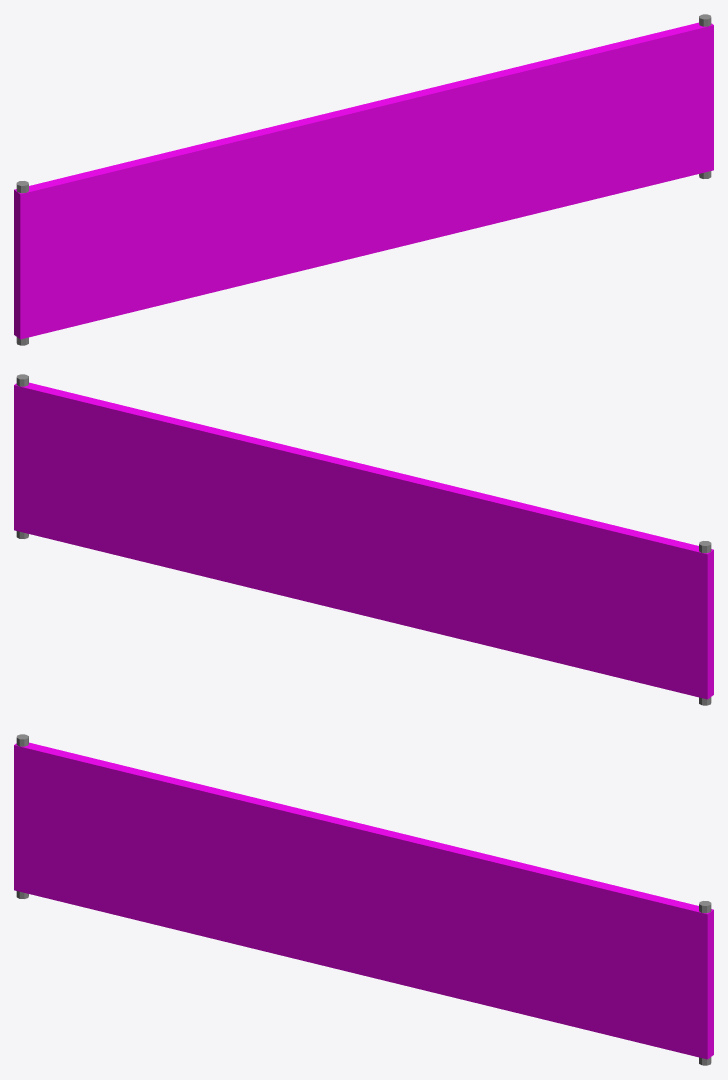
File: stake_ribbon_orange_5m.dae
3 views of the same model, one above another, from view 1: azimuth 30°, elevation 25°; view 2: azimuth 150°, elevation 25°; view 3: azimuth 330°, elevation 25° (orthographic).
Parts seen in each view (by area): view 1: Colmesh_panel-1; view 2: Colmesh_panel-1; view 3: Colmesh_panel-1.
Part boxes in pixels (x1,y1,x2,y2): Colmesh_panel-1: (14,22,713,339); Colmesh_panel-1: (14,382,713,699); Colmesh_panel-1: (14,742,713,1059).
Size of the model in its own units: 5 by 0.08 by 1.1.
